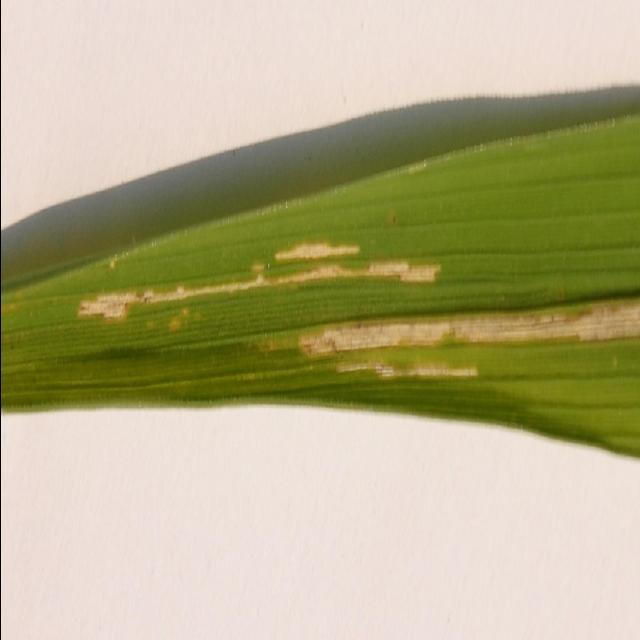Bacterial leaf blight: (0, 60, 640, 491)
